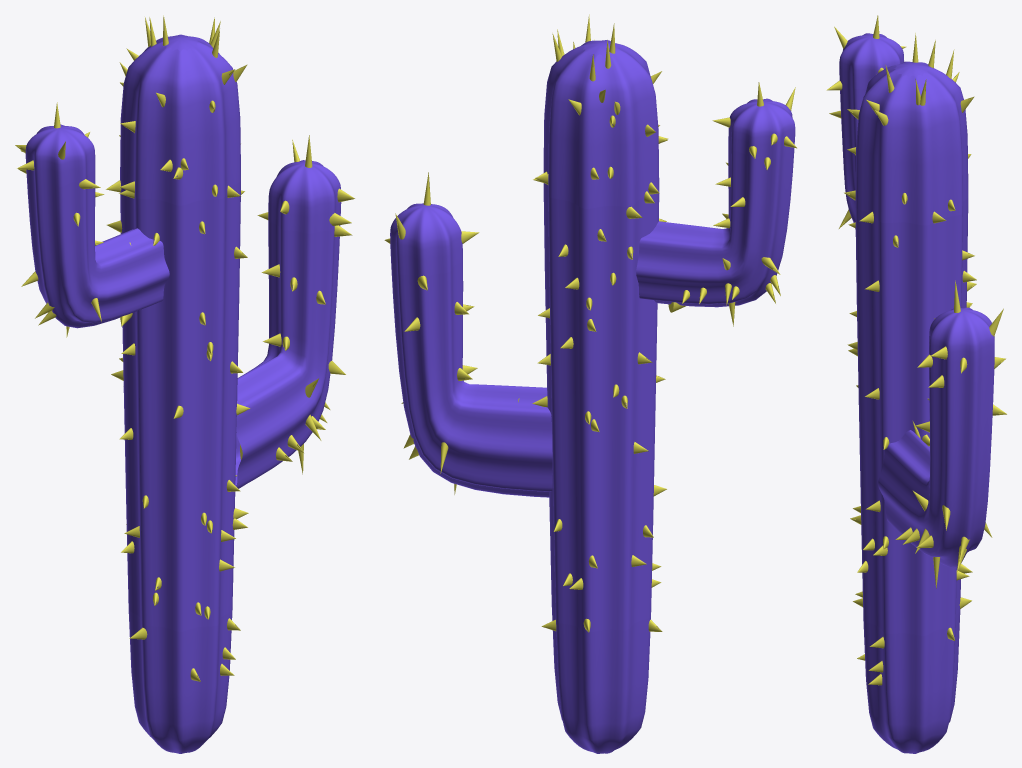
Rendered from cactus01.fbx.
The picture shows the model from 3 angles, left to right: view 1: azimuth 30°, elevation 25°; view 2: azimuth 150°, elevation 25°; view 3: azimuth 270°, elevation 25°; orthographic projection. The views are drawn at different scales.
Visible parts, largest first — view 1: Extrude_7.005, Cone_91.005; view 2: Extrude_7.005, Cone_91.005; view 3: Extrude_7.005, Cone_91.005.
Boxes of the visible parts, box(x1,y1,x2,y2) form: Extrude_7.005: box(25, 34, 341, 753); Cone_91.005: box(15, 15, 354, 681); Extrude_7.005: box(390, 40, 795, 753); Cone_91.005: box(384, 14, 796, 632); Extrude_7.005: box(839, 33, 994, 753); Cone_91.005: box(826, 15, 1006, 685).
Size of the model in its own units: 3323 by 6276 by 1450.
